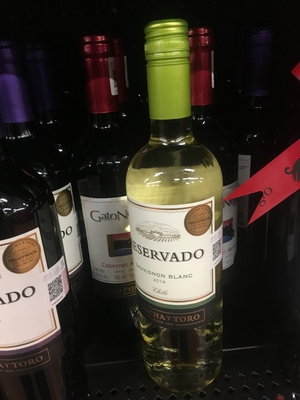reservado sauvignon blanc: (111, 32, 241, 397)
